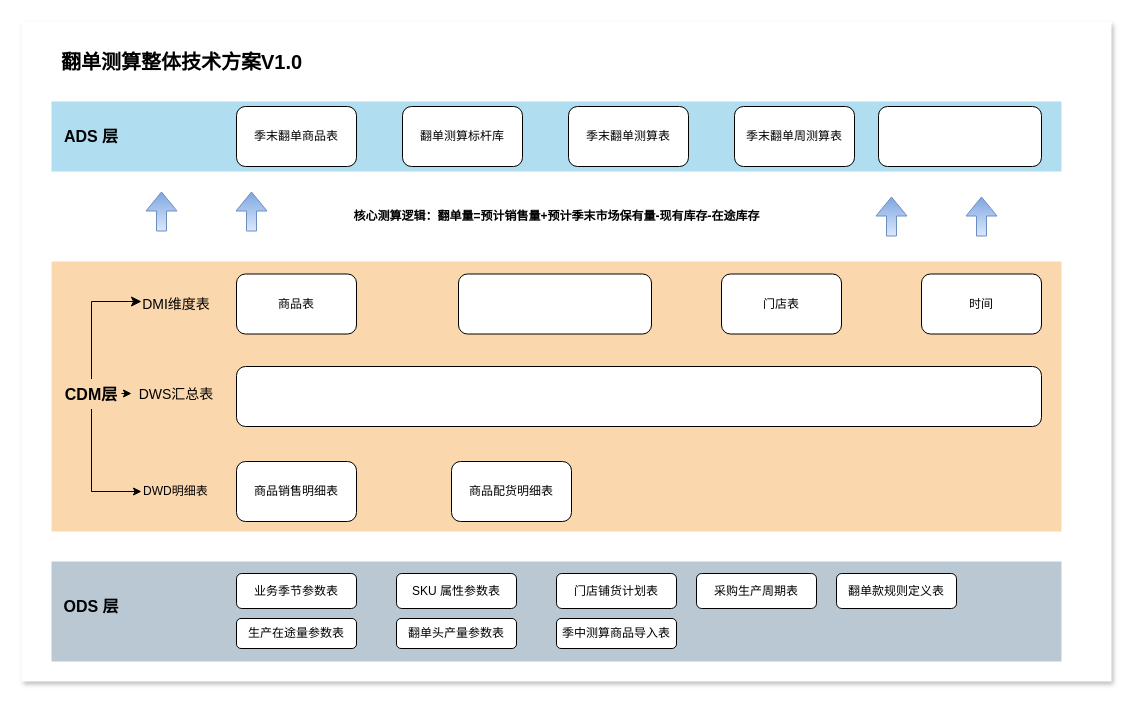
Image size: 1134x705. Some labels were removed from this diagram. Each missing label, with the centre of its shape:
商品：品类-面料-袖长-色系维度: (x=555, y=303)
每季度各款销售汇总宽表（销售门店数、季末铺货新老店数、在库天数、销售量、销售额、件数流速、金额流速，每季件速流速排名、每季金额流速排名）: (x=639, y=396)
翻单生产尺码量测算表: (x=960, y=136)
